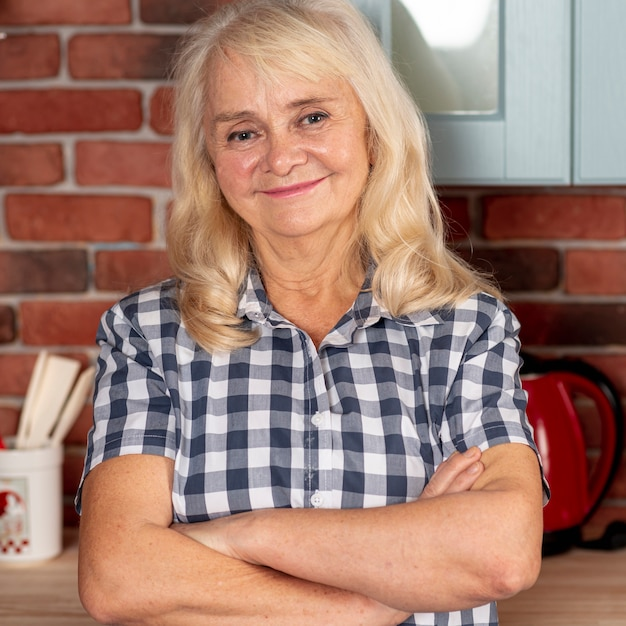young: (160, 7, 421, 312)
